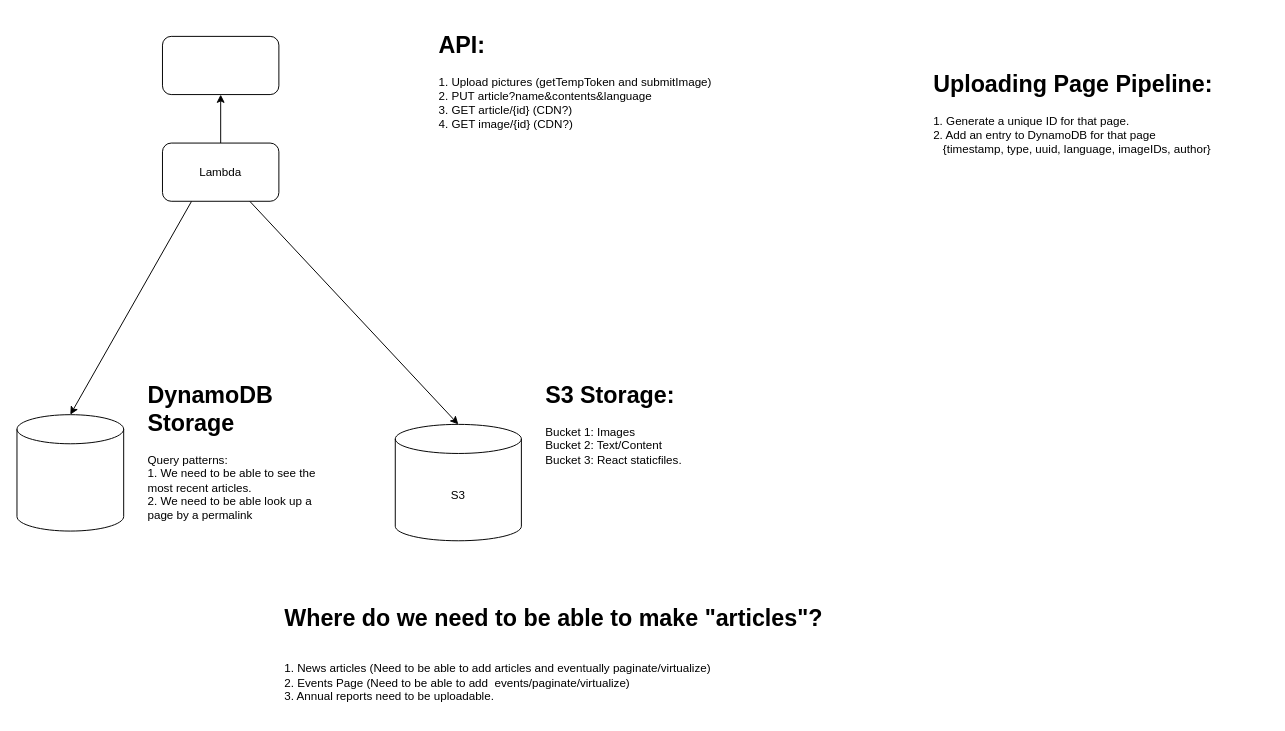
This 1285x731 diagram has some shape labels left out. The centre of each missing label's shape, as x and y in pixels:
"Client" belongs at point 220,65.
"Dynamo DB" belongs at point 70,472.
